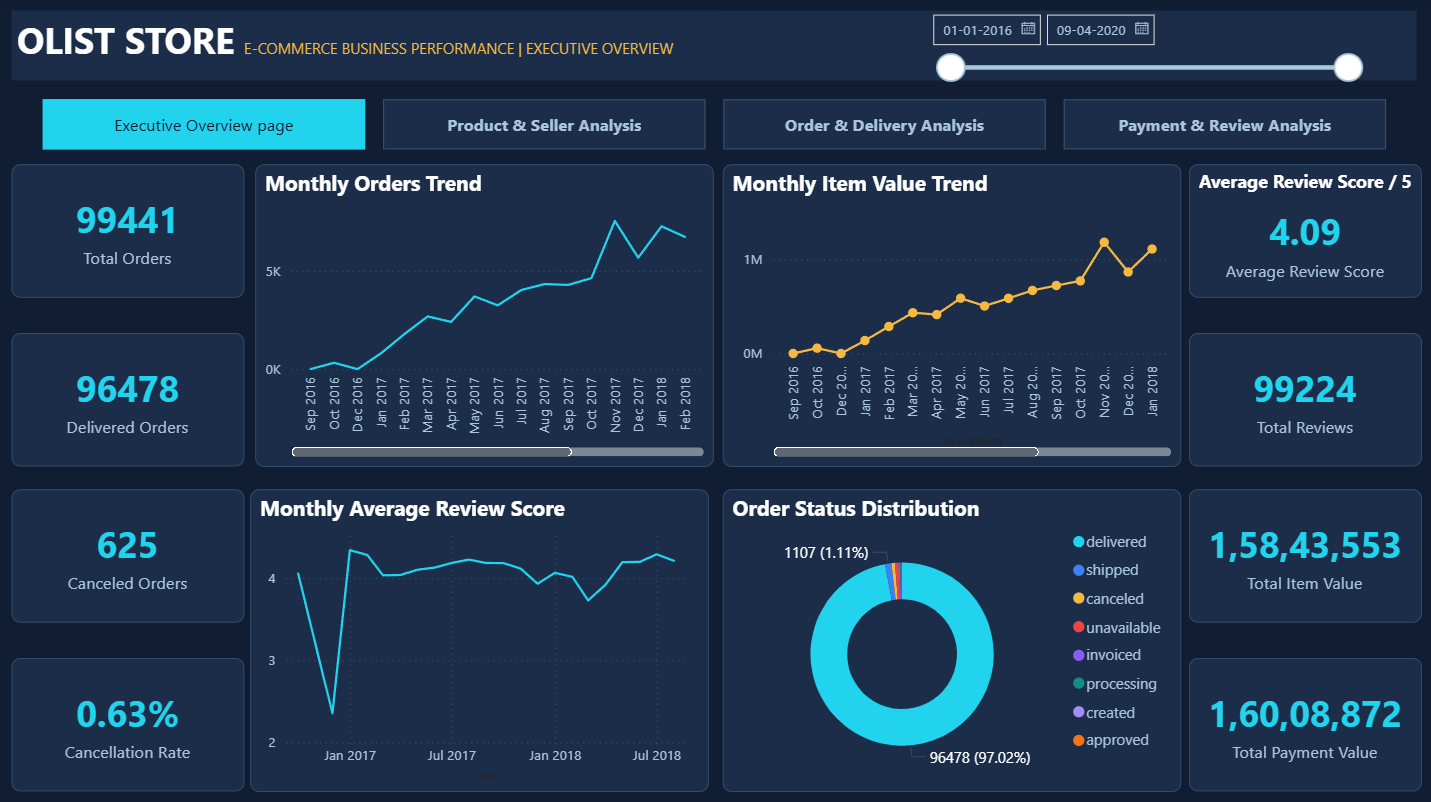

What the dashboard file says about the page in this screenshot:
{"tool":"powerbi","page":{"name":"Executive Overview page","canvas":[1280,720],"ordinal":0},"visuals":[{"type":"card","fields":{"Values":["gold dim_customers.Total Orders"]},"box":[11.2,148.5,207.7,119.5],"z":0},{"type":"card","fields":{"Values":["_Measures_.Delivered Orders"]},"box":[11.2,299.3,207.7,119.5],"z":1000},{"type":"card","fields":{"Values":["_Measures_.Canceled Orders"]},"box":[11.2,438.8,207.7,119.5],"z":2000},{"type":"card","fields":{"Values":["_Measures_.Cancellation Rate"]},"box":[11.2,589.6,207.7,119.5],"z":3000},{"type":"card","fields":{"Values":["_Measures_.Total Item Value"]},"box":[1063,438.8,207.7,119.5],"z":4000},{"type":"card","title":"Average Review Score / 5","fields":{"Values":["_Measures_.Average Review Score"]},"box":[1063,148.5,207.7,119.5],"z":5000},{"type":"card","fields":{"Values":["_Measures_.Total Reviews"]},"box":[1063,299.3,207.7,119.5],"z":6000},{"type":"lineChart","title":"Monthly Orders Trend","fields":{"Y":["_Measures_.Monthly Orders"],"Category":["gold dim_date.full_date.Variation.Date Hierarchy.Year","gold dim_date.full_date.Variation.Date Hierarchy.Month"]},"box":[228.9,148.5,409.8,270.2],"z":7000},{"type":"donutChart","title":"Order Status Distribution","fields":{"Category":["gold dim_order_status.order_status"],"Y":["Sum(gold fact_orders.order_count)"]},"box":[646.5,438.8,409.8,270.2],"z":8000},{"type":"card","fields":{"Values":["_Measures_.Total Payment Value"]},"box":[1063,589.6,207.7,119.5],"z":9000},{"type":"lineChart","title":"Monthly Item Value Trend","fields":{"Y":["_Measures_.Monthly Item Value"],"Category":["gold dim_date.full_date.Variation.Date Hierarchy.Year","gold dim_date.full_date.Variation.Date Hierarchy.Month"]},"box":[646.5,148.5,409.8,270.2],"z":10000},{"type":"lineChart","title":"Monthly Average Review Score","fields":{"Y":["_Measures_.Monthly Average Review Score"],"Category":["gold dim_date.full_date.Variation.Date Hierarchy.Year","gold dim_date.full_date.Variation.Date Hierarchy.Month"]},"box":[224.4,438.8,409.8,270.2],"z":11000},{"type":"textbox","box":[11.2,11.2,1255.1,62.5],"z":12000},{"type":"pageNavigator","box":[38,89.3,1200.4,45.8],"z":13000}]}

Visuals, with their boxes in screenshot pixels (x1, y1, x2, y2), scaled from the page's 1280x720 canvas onto the 1431x802 screenshot:
card - gold dim_customers.Total Orders: [13, 165, 245, 299]
card - _Measures_.Delivered Orders: [13, 333, 245, 466]
card - _Measures_.Canceled Orders: [13, 489, 245, 622]
card - _Measures_.Cancellation Rate: [13, 657, 245, 790]
card - _Measures_.Total Item Value: [1188, 489, 1421, 622]
"Average Review Score / 5" card: [1188, 165, 1421, 299]
card - _Measures_.Total Reviews: [1188, 333, 1421, 466]
"Monthly Orders Trend" lineChart: [256, 165, 714, 466]
"Order Status Distribution" donutChart: [723, 489, 1181, 790]
card - _Measures_.Total Payment Value: [1188, 657, 1421, 790]
"Monthly Item Value Trend" lineChart: [723, 165, 1181, 466]
"Monthly Average Review Score" lineChart: [251, 489, 709, 790]
textbox: [13, 12, 1416, 82]
pageNavigator: [42, 99, 1384, 150]
